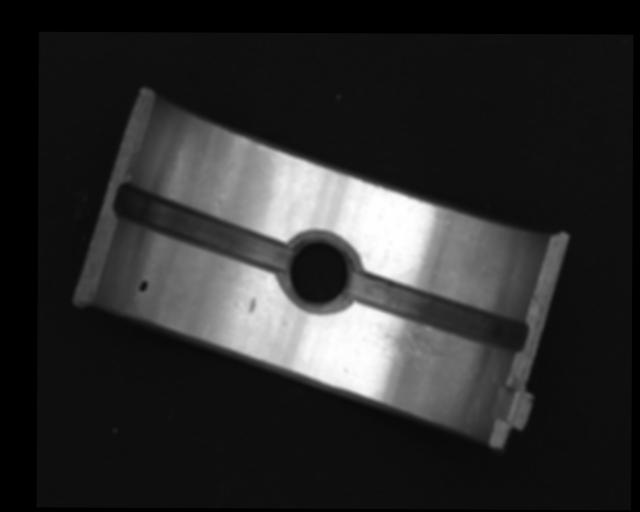blot: (137, 279, 149, 294)
bruise: (249, 297, 256, 313)
gap: (112, 186, 290, 270), (349, 272, 530, 352)
hole: (280, 234, 356, 310)
scratch: (370, 321, 468, 372)
